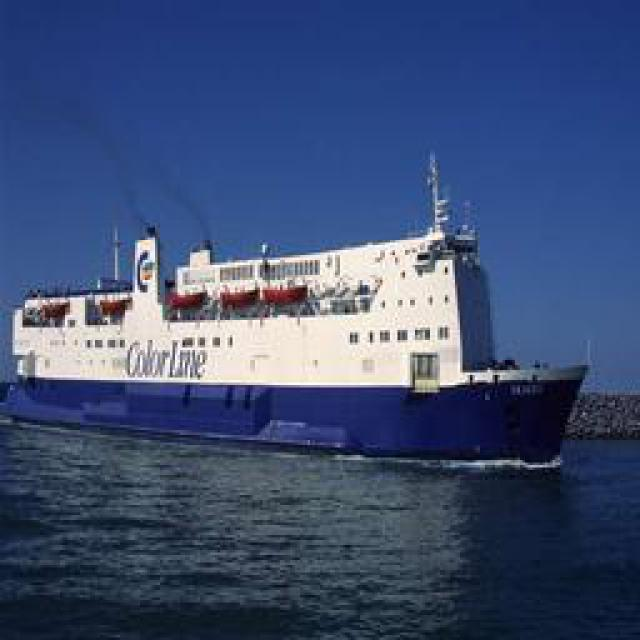Ship: (7, 137, 597, 457)
